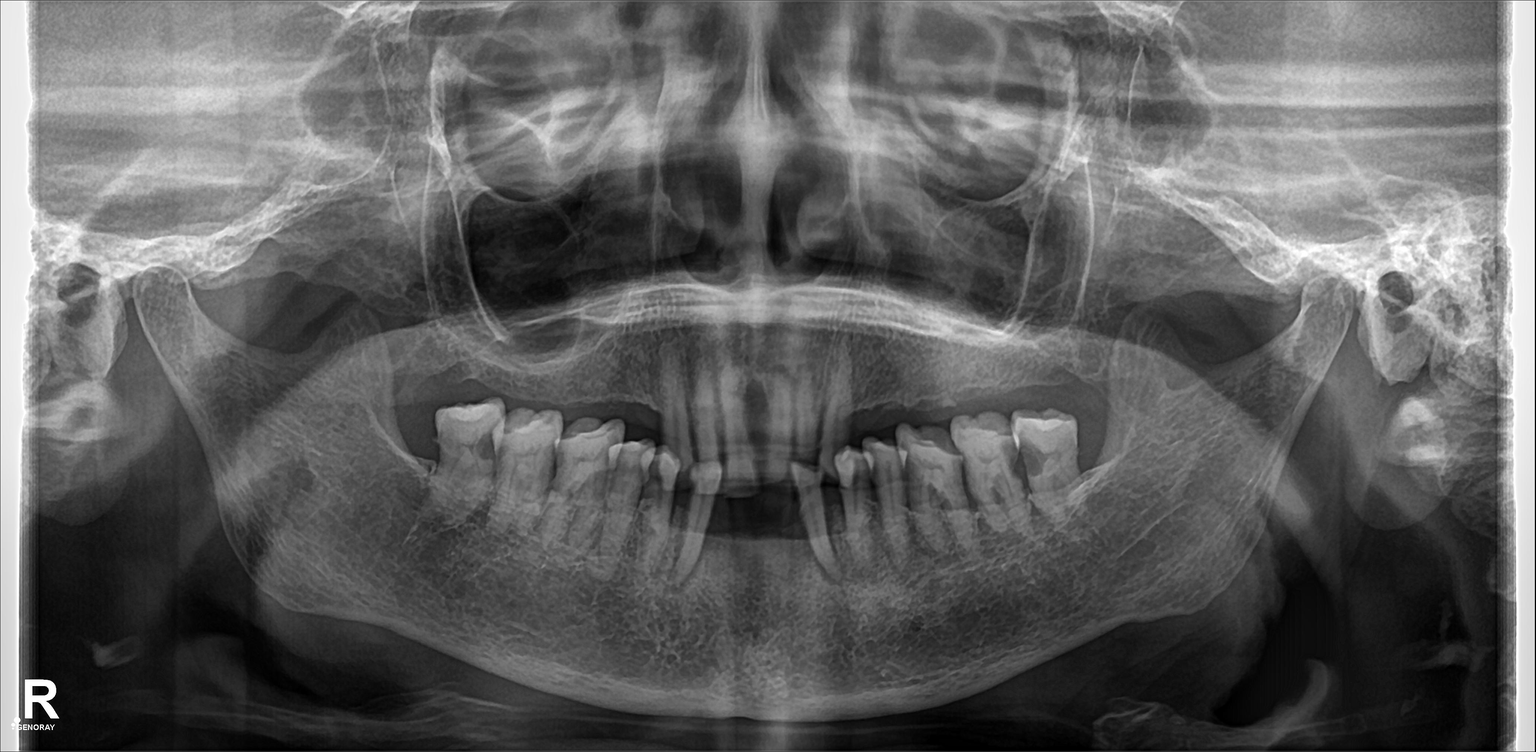Dental Caries: (1006, 437, 1053, 481)
Missing Tooth: (1088, 419, 1132, 500), (596, 346, 642, 410), (402, 419, 445, 486), (859, 361, 903, 423), (501, 333, 541, 399), (551, 339, 587, 408), (756, 486, 788, 562), (1073, 341, 1110, 399), (460, 322, 495, 383), (717, 486, 743, 565), (981, 356, 1012, 413), (421, 324, 450, 384), (942, 361, 976, 408), (914, 367, 945, 413), (1022, 356, 1055, 399)
